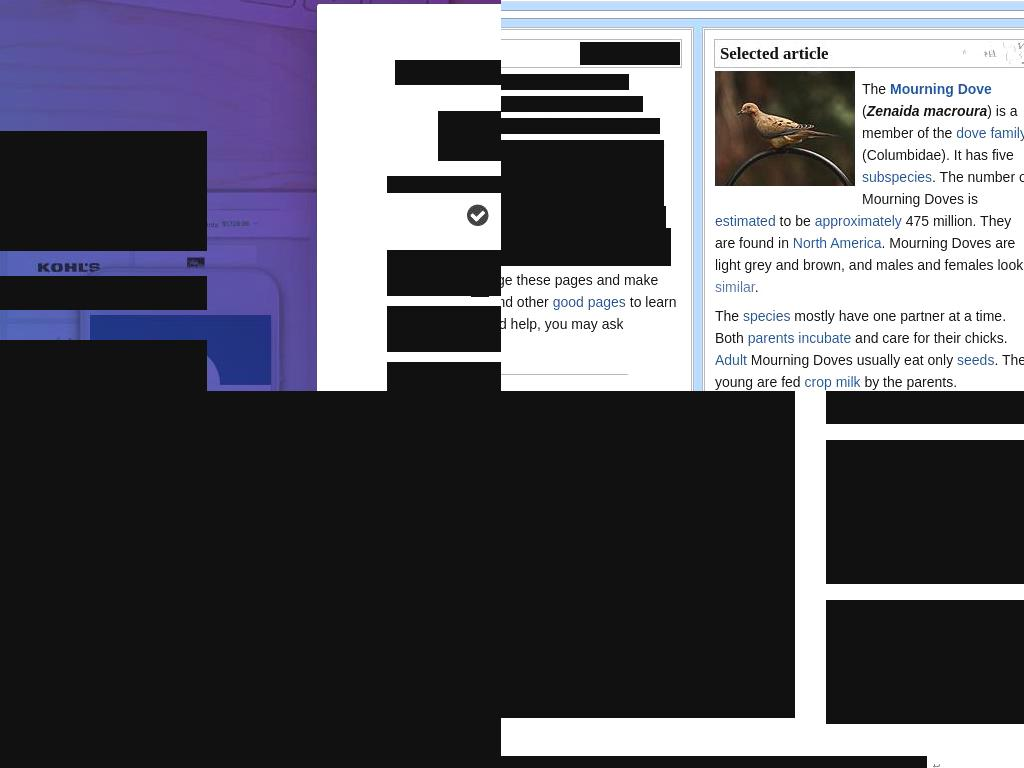button: (501, 391, 795, 718), (826, 440, 1024, 544), (826, 600, 1024, 704), (273, 627, 501, 666), (387, 250, 501, 296), (387, 306, 501, 352), (387, 362, 501, 391)
heading: (501, 546, 785, 631), (720, 43, 829, 63)
iframe: (0, 391, 501, 609)
image: (0, 391, 501, 768), (501, 391, 795, 523), (715, 71, 855, 186), (438, 111, 501, 161), (580, 42, 680, 65), (935, 42, 1024, 65), (471, 251, 489, 297)
link: (501, 228, 671, 266), (501, 250, 656, 266), (501, 74, 624, 90), (890, 81, 993, 97), (566, 118, 660, 134), (792, 235, 882, 251), (814, 213, 902, 229), (552, 294, 626, 310), (862, 169, 932, 185), (715, 213, 776, 229), (804, 374, 861, 390), (798, 330, 852, 346), (743, 308, 791, 324), (747, 330, 794, 346), (715, 279, 755, 295), (501, 206, 540, 222), (957, 352, 995, 368), (990, 125, 1024, 141), (956, 125, 988, 141), (715, 352, 747, 368)
text: (0, 131, 207, 251), (501, 633, 785, 718), (501, 140, 664, 222), (715, 352, 1024, 390), (715, 235, 1023, 273), (715, 213, 1011, 251), (715, 308, 1007, 346), (826, 479, 1006, 536), (826, 639, 1004, 696), (826, 544, 1024, 584), (0, 276, 207, 310), (501, 294, 676, 332), (501, 206, 666, 244), (862, 169, 1024, 207), (501, 272, 658, 310), (862, 103, 1018, 141), (501, 316, 623, 354), (826, 404, 1024, 424), (826, 704, 1024, 724), (746, 352, 957, 368), (395, 60, 501, 85), (851, 330, 1009, 346), (862, 147, 1014, 163), (501, 96, 643, 112), (387, 176, 501, 193), (866, 103, 987, 119), (860, 374, 957, 390), (501, 118, 566, 134), (501, 294, 553, 310), (775, 213, 815, 229), (862, 81, 890, 97), (715, 308, 743, 324), (624, 74, 629, 90), (655, 250, 660, 266), (862, 103, 867, 119), (754, 279, 759, 295)
